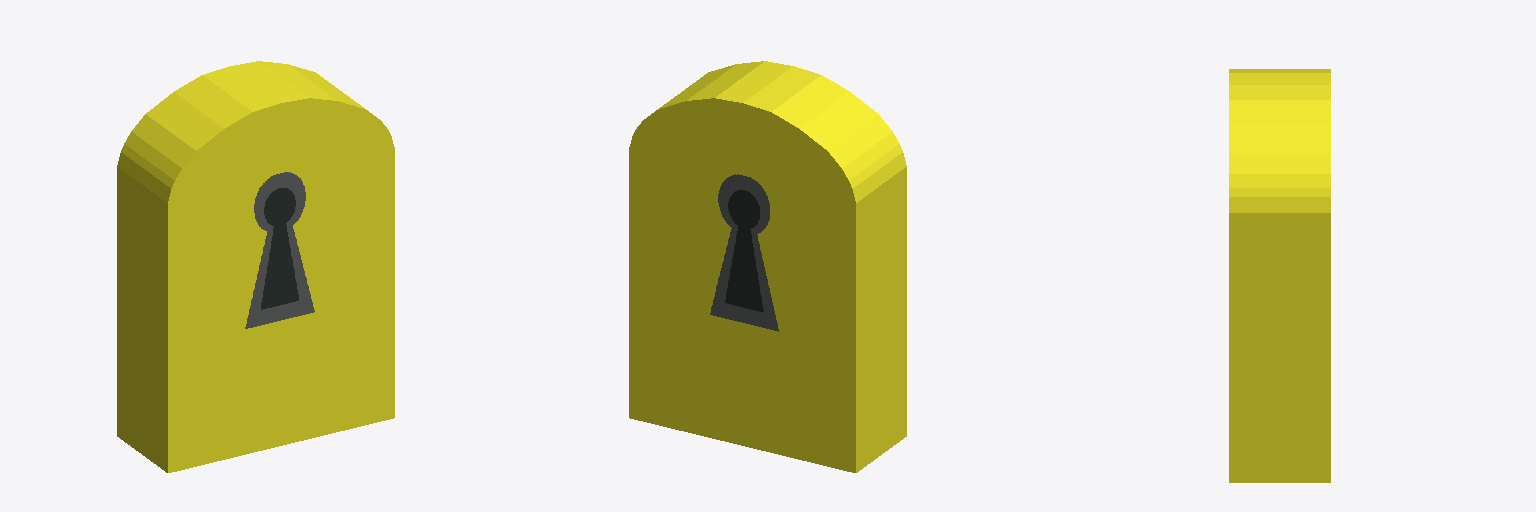
The picture shows the model from 3 angles: view 1: azimuth 30°, elevation 25°; view 2: azimuth 150°, elevation 25°; view 3: azimuth 270°, elevation 25°; orthographic projection.
Visible parts, largest first — view 1: Cube; view 2: Cube; view 3: Cube.
Boxes of the visible parts, box(x1,y1,x2,y2) form: Cube: box(117, 61, 394, 472); Cube: box(629, 61, 906, 472); Cube: box(1229, 69, 1330, 482).
Bounding box in the file's own units: 2 × 2.89 × 0.7747.
1 materials, 1 textured.